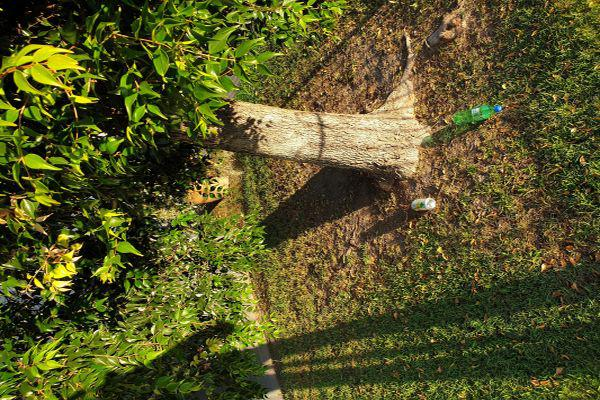Plastic Bottle: (453, 104, 502, 126), (410, 198, 436, 212)
